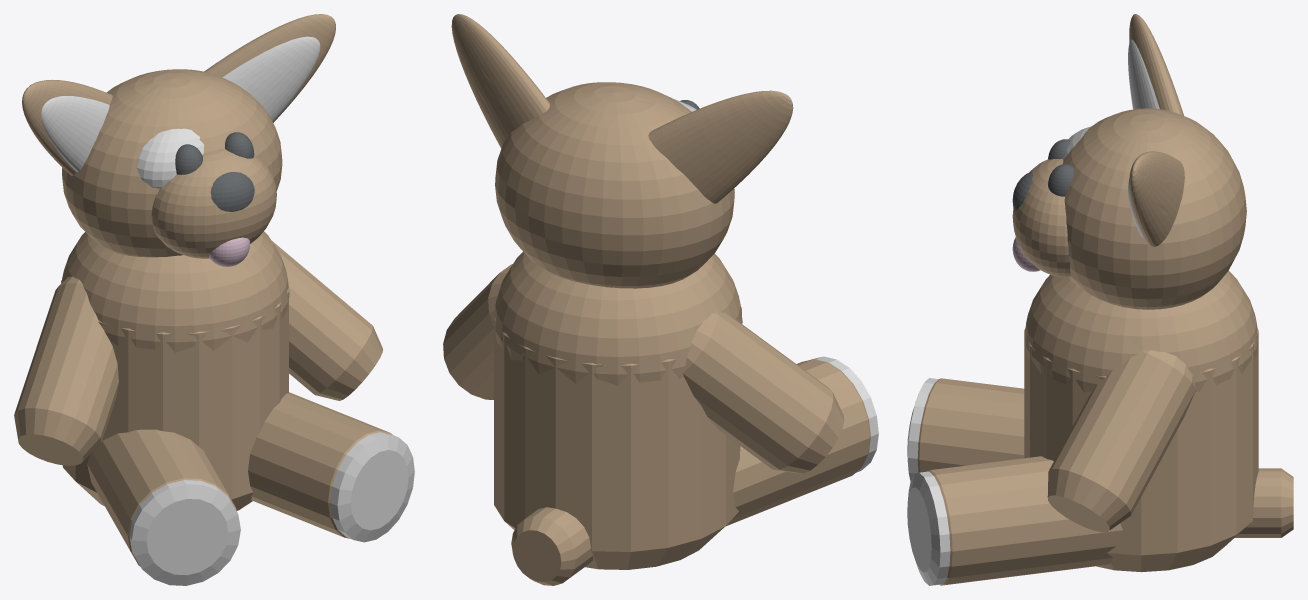
File: frisbee_1.glb
The picture shows the model from 3 angles, left to right: view 1: azimuth 30°, elevation 25°; view 2: azimuth 150°, elevation 25°; view 3: azimuth 270°, elevation 25°; orthographic projection. The views are drawn at different scales.
Visible parts, largest first — view 1: Mesh_Mesh_head_geo.001_lambert2SG.001; view 2: Mesh_Mesh_head_geo.001_lambert2SG.001; view 3: Mesh_Mesh_head_geo.001_lambert2SG.001.
Part boxes in pixels (x1,y1,x2,y2): Mesh_Mesh_head_geo.001_lambert2SG.001: (14, 14, 414, 585); Mesh_Mesh_head_geo.001_lambert2SG.001: (443, 14, 878, 585); Mesh_Mesh_head_geo.001_lambert2SG.001: (907, 14, 1293, 585).
Bounding box in the file's own units: 36 × 42.17 × 33.
